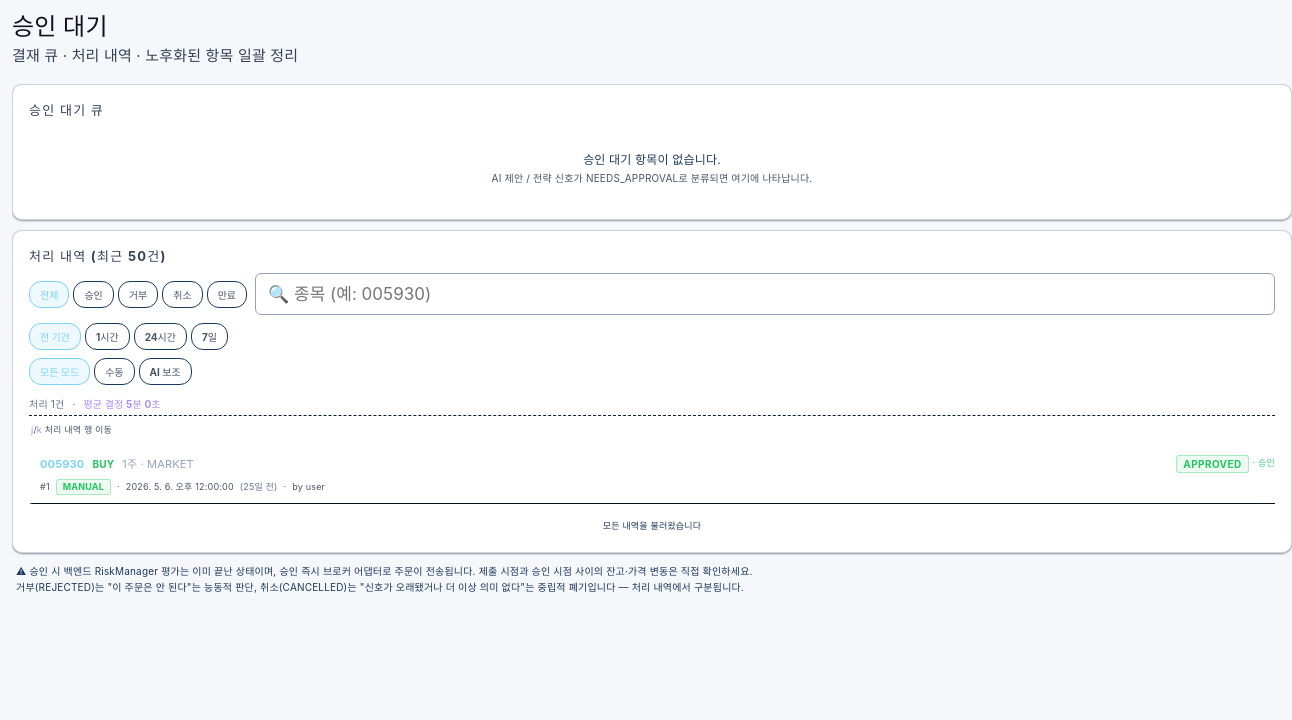
it: <Approvals> 처리 내역 symbol filter › shows the filtered empty message when filter narrows to zero
Type "999999" into the field with placeholder "🔍 종목 (예: 005930)" at (765, 294), box x1=255 y1=273 x2=1275 y2=315
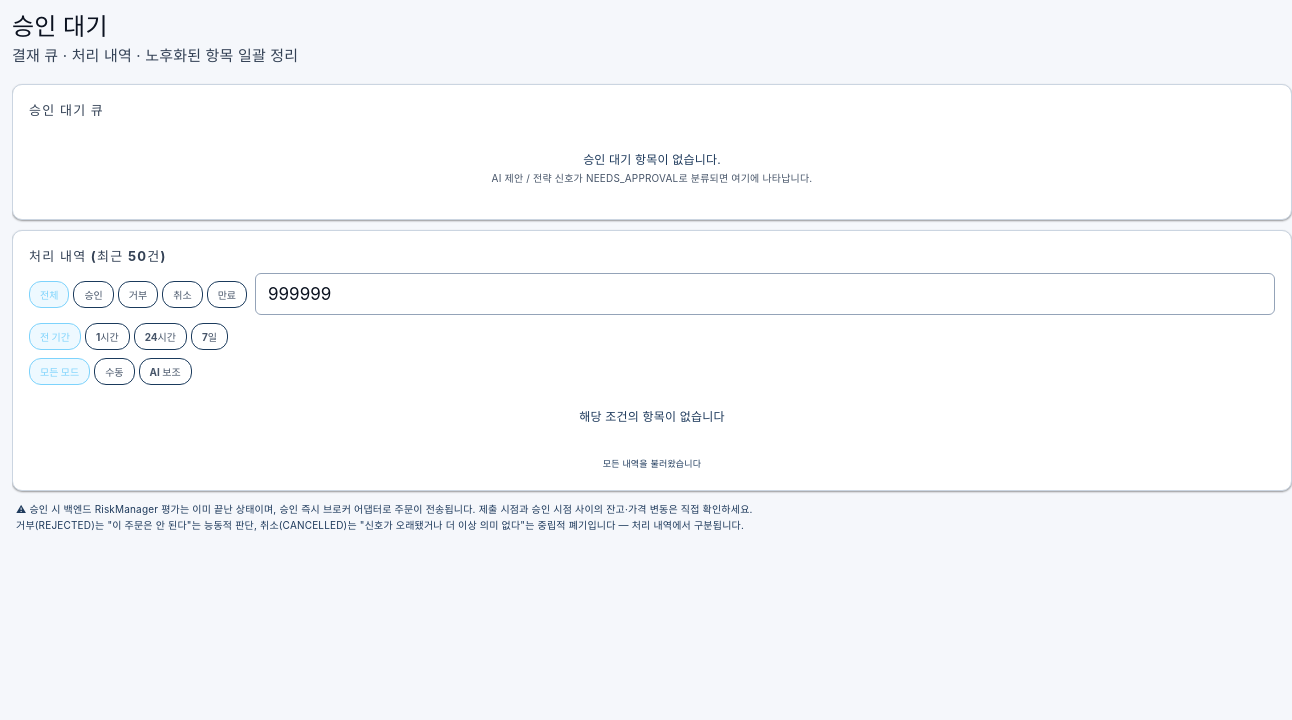
Expected: the text "해당 조건의 항목이 없습니다" is shown, x1=579 y1=409 x2=725 y2=424
